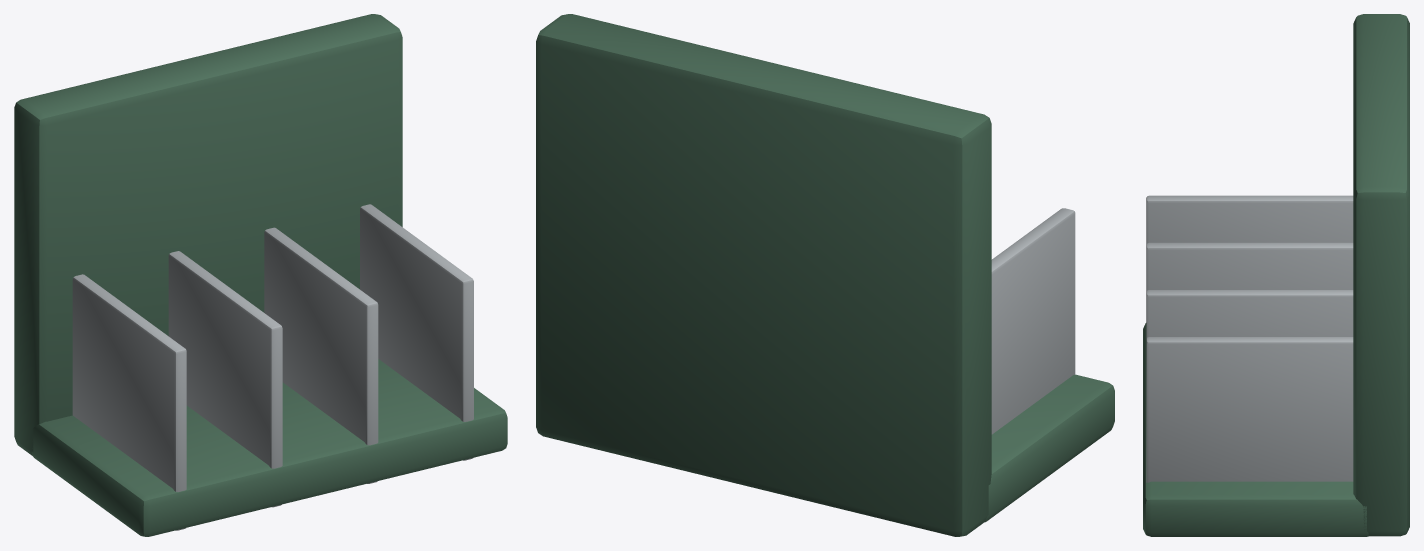
The model's file is scorecard_holder_public.glb.
The picture shows the model from 3 angles, left to right: view 1: azimuth 30°, elevation 25°; view 2: azimuth 150°, elevation 25°; view 3: azimuth 270°, elevation 25°; orthographic projection. The views are drawn at different scales.
Visible parts, largest first — view 1: ScorecardHolder_Back, ScorecardHolder_Lip, ScorecardHolder_Divider_1, ScorecardHolder_Divider_3, ScorecardHolder_Divider_2, ScorecardHolder_Divider_4; view 2: ScorecardHolder_Back, ScorecardHolder_Divider_1, ScorecardHolder_Lip; view 3: ScorecardHolder_Divider_4, ScorecardHolder_Back, ScorecardHolder_Lip, ScorecardHolder_Divider_1, ScorecardHolder_Divider_2, ScorecardHolder_Divider_3.
Boxes of the visible parts, x1,y1,x2,y2 form: ScorecardHolder_Back: [14, 14, 402, 455]; ScorecardHolder_Lip: [31, 359, 507, 536]; ScorecardHolder_Divider_1: [72, 274, 186, 530]; ScorecardHolder_Divider_3: [264, 227, 378, 483]; ScorecardHolder_Divider_2: [168, 251, 282, 507]; ScorecardHolder_Divider_4: [360, 204, 473, 460]; ScorecardHolder_Back: [536, 14, 991, 536]; ScorecardHolder_Divider_1: [991, 208, 1075, 434]; ScorecardHolder_Lip: [985, 374, 1114, 522]; ScorecardHolder_Divider_4: [1146, 337, 1353, 482]; ScorecardHolder_Back: [1353, 14, 1409, 536]; ScorecardHolder_Lip: [1143, 323, 1368, 536]; ScorecardHolder_Divider_1: [1146, 195, 1353, 244]; ScorecardHolder_Divider_2: [1146, 242, 1353, 291]; ScorecardHolder_Divider_3: [1146, 290, 1353, 338].
Size of what is drawn, in the model's own units: 0.3 by 0.27 by 0.187.
